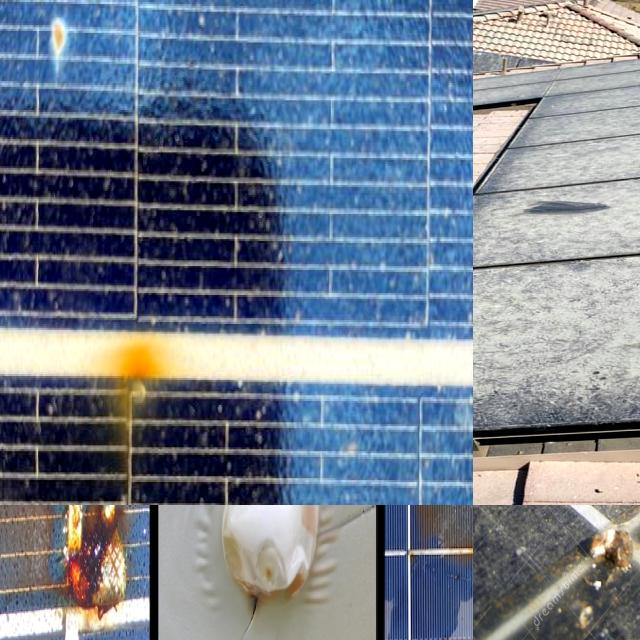bird: (583, 519, 640, 597), (473, 505, 509, 520)
dust: (473, 236, 640, 418), (473, 50, 640, 108), (509, 167, 640, 235), (535, 94, 640, 170)
shadow: (180, 505, 371, 602), (78, 328, 182, 495), (53, 505, 126, 639), (407, 505, 473, 618), (0, 505, 51, 598), (233, 505, 291, 563), (36, 22, 86, 76)
